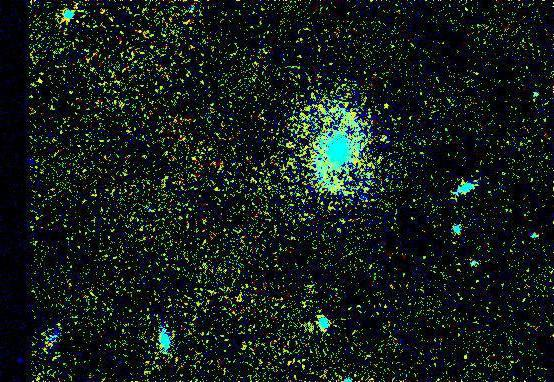star: (369, 124, 399, 154)
